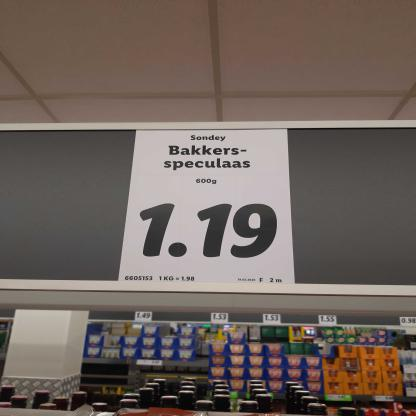prtg: (119, 130, 296, 285)
